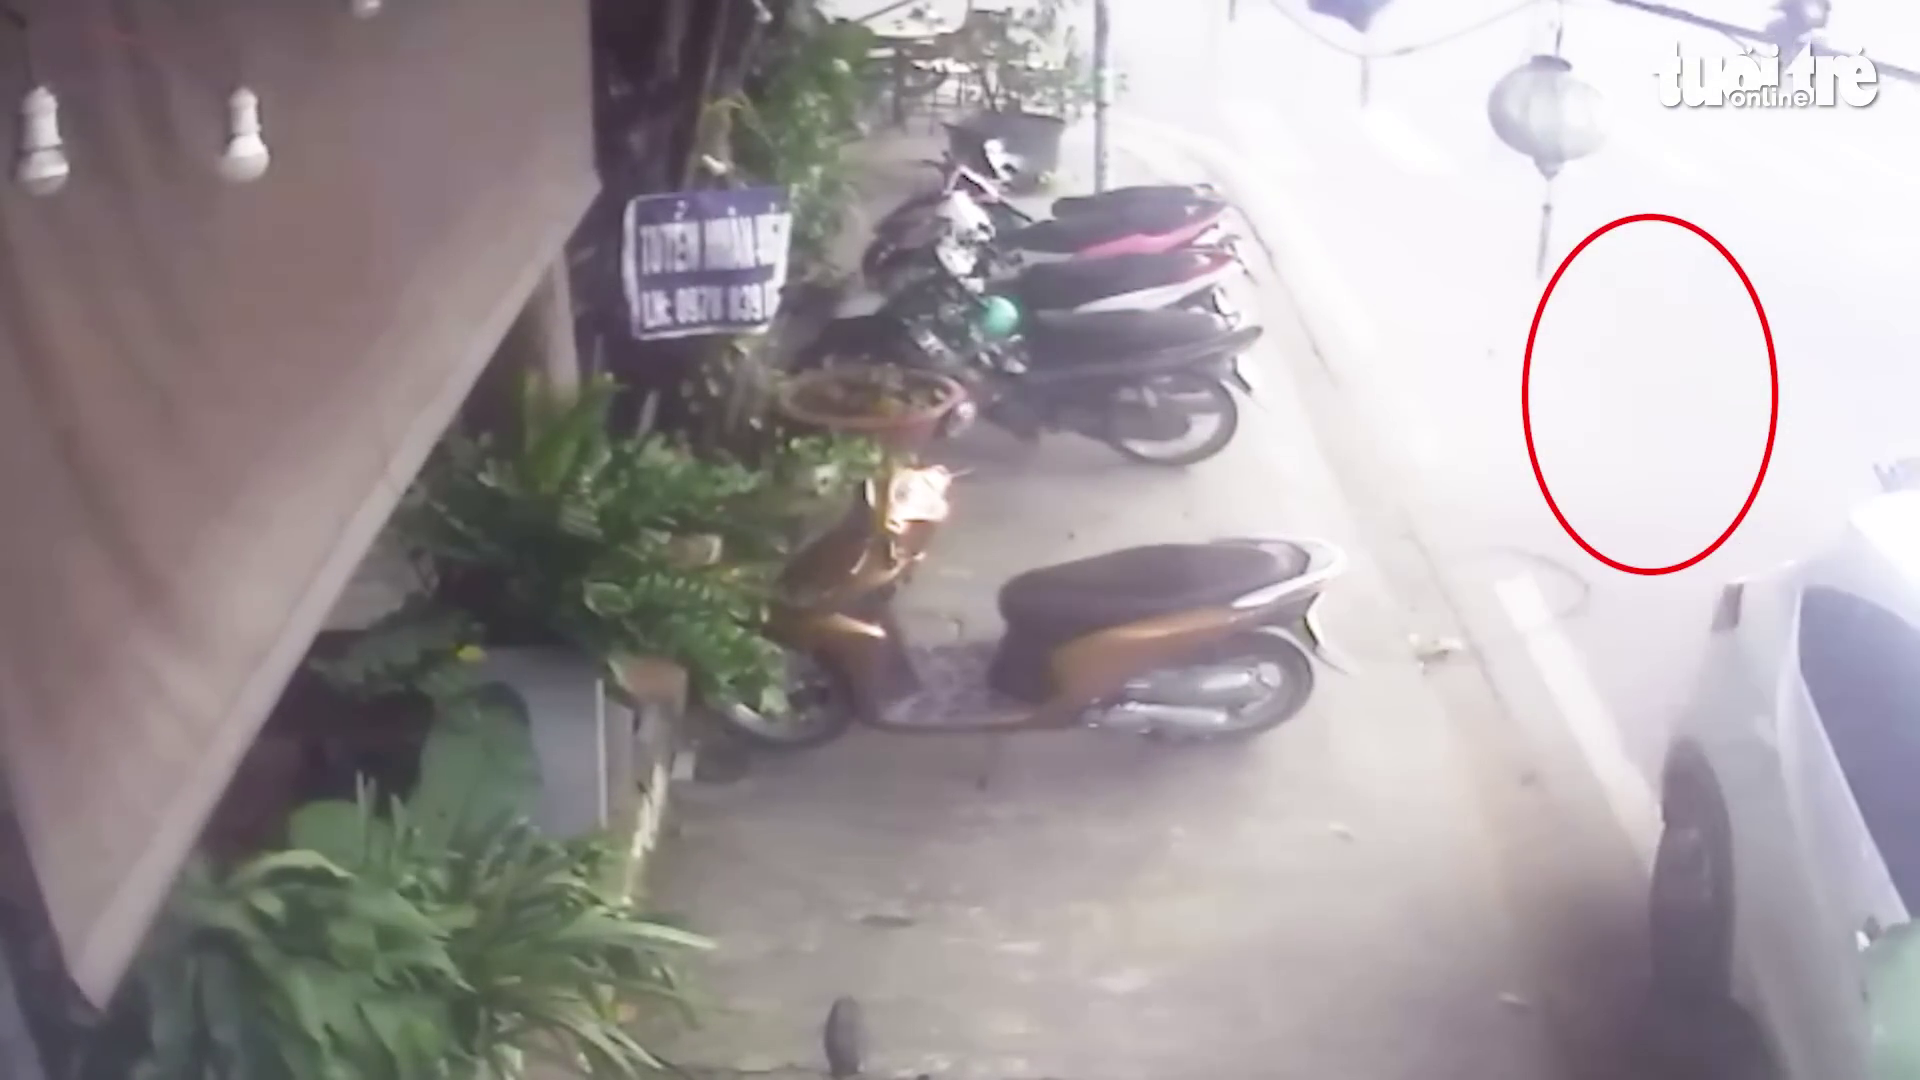Motorcycle: (684, 471, 1352, 774), (827, 186, 1265, 467), (911, 113, 1259, 289)
